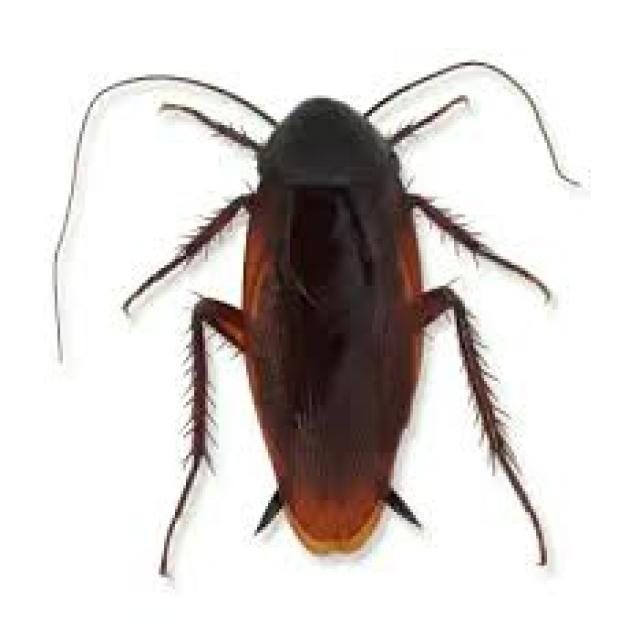Cockroach: (41, 46, 587, 584)
